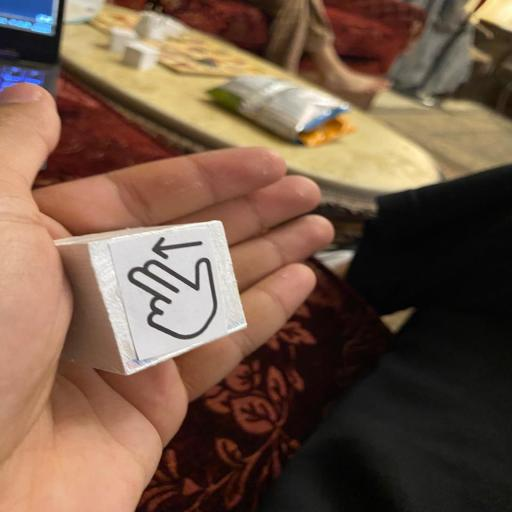LeftSwipe: (51, 219, 247, 376)
